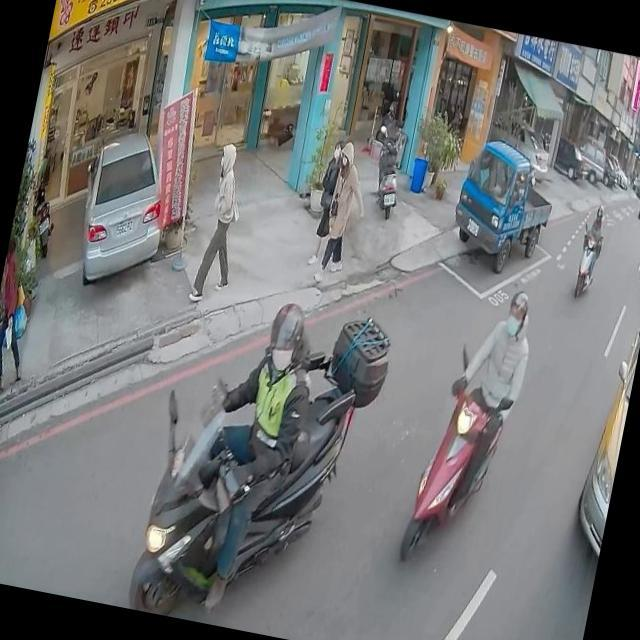person: (127, 281, 325, 624), (421, 278, 540, 532), (183, 136, 259, 309), (310, 140, 371, 278), (306, 134, 362, 273), (571, 198, 610, 296)
